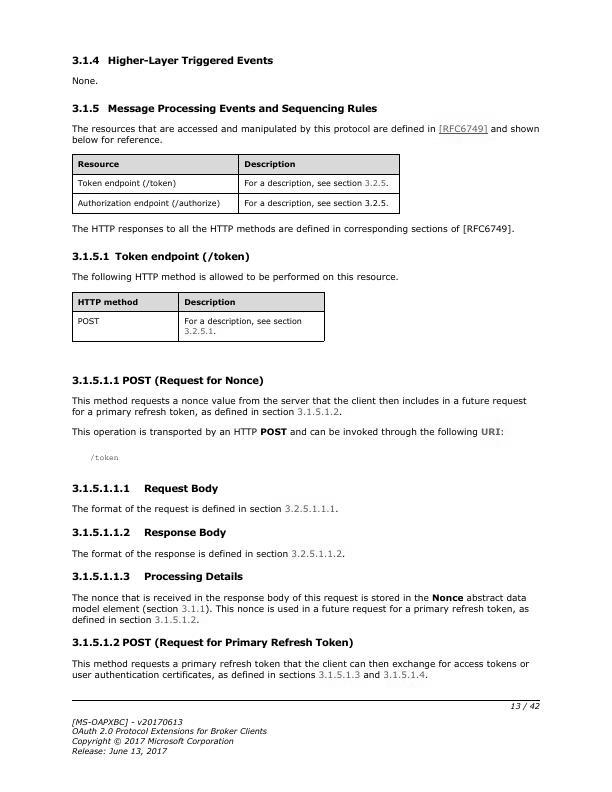table: (71, 153, 402, 217), (71, 291, 326, 346)
text: (70, 591, 530, 627), (70, 657, 534, 682), (69, 122, 539, 146), (70, 394, 528, 417), (68, 716, 273, 760), (70, 425, 507, 441), (70, 222, 516, 236), (71, 634, 354, 651), (70, 270, 400, 284), (69, 502, 339, 516), (69, 102, 379, 114), (69, 547, 346, 560), (68, 51, 276, 68), (68, 373, 267, 389), (69, 524, 228, 540), (71, 249, 251, 263), (68, 570, 247, 584), (71, 482, 219, 495), (87, 450, 121, 465), (68, 75, 101, 85)
